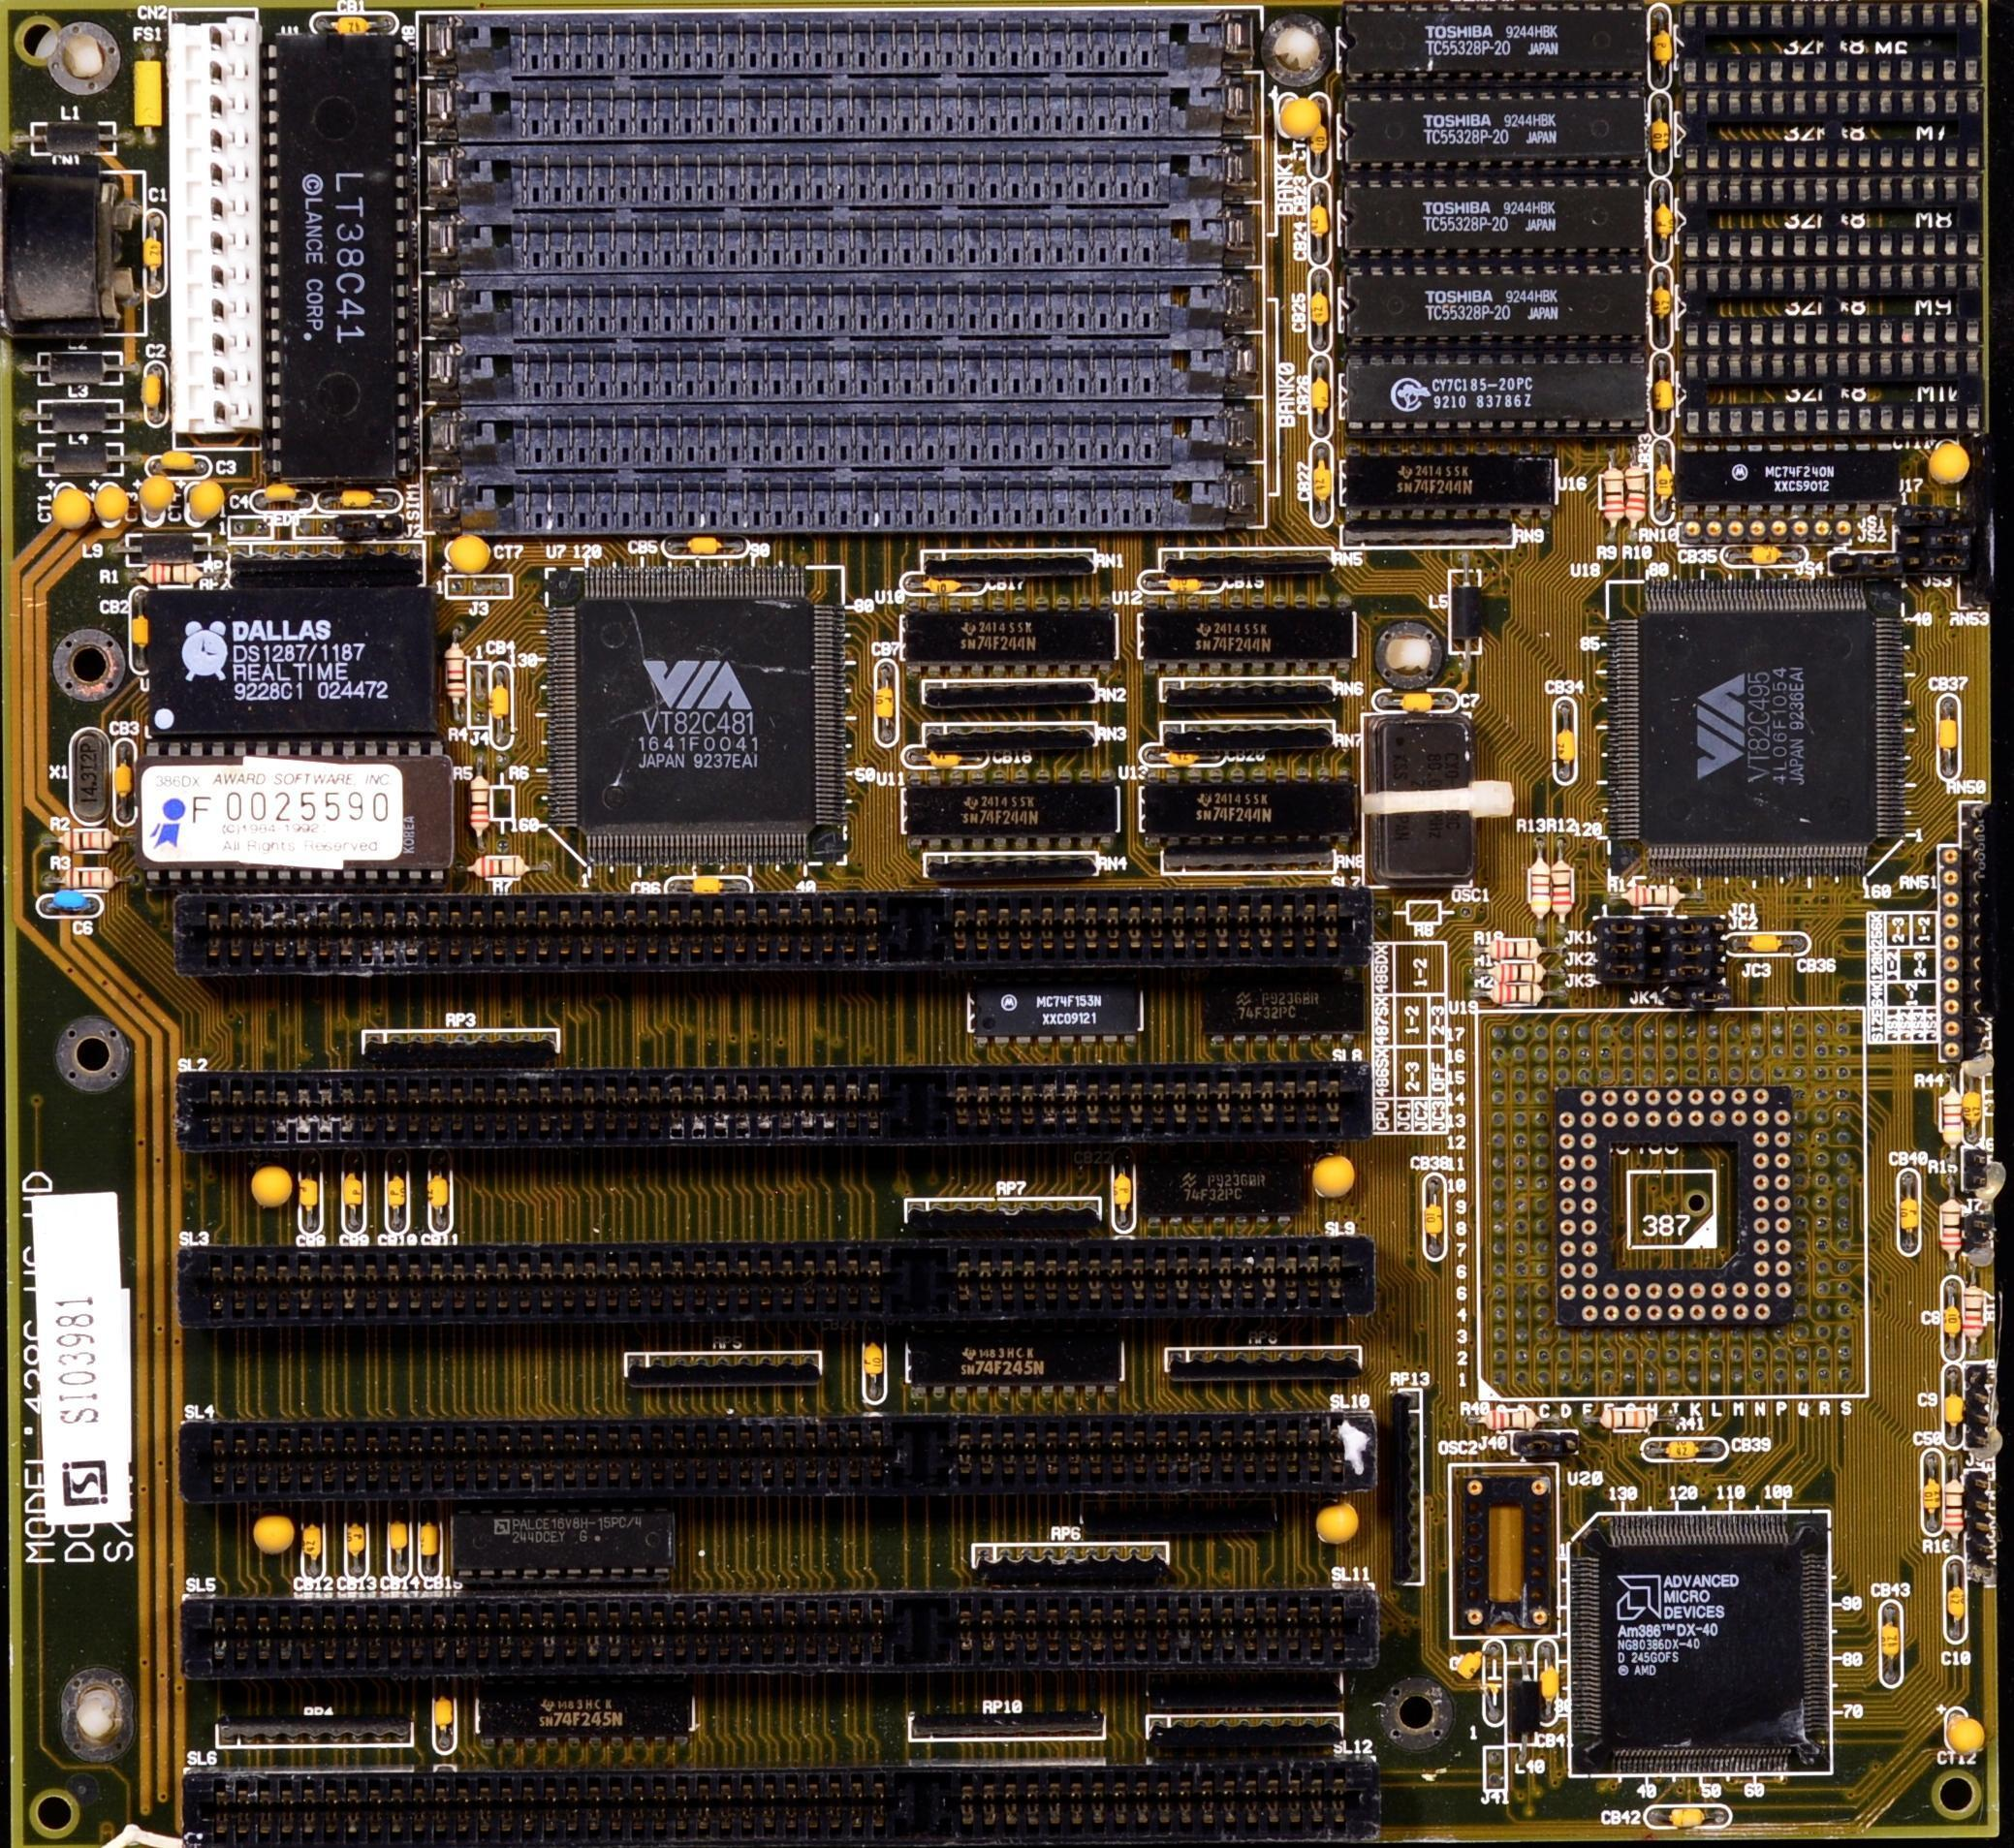Capacitor: (868, 660, 903, 739), (1547, 710, 1588, 780), (1377, 684, 1450, 720), (484, 665, 519, 738), (1426, 1174, 1457, 1256), (327, 479, 389, 517), (338, 1515, 375, 1580), (1305, 360, 1344, 422), (666, 534, 750, 563), (423, 1167, 456, 1236), (1940, 1569, 1972, 1644), (380, 1515, 415, 1582), (1918, 1453, 1945, 1528), (409, 1515, 444, 1577), (850, 1340, 893, 1390), (1150, 566, 1214, 600), (1309, 182, 1335, 260), (382, 1169, 411, 1241), (1644, 1805, 1719, 1832), (46, 885, 94, 926), (1109, 1157, 1137, 1228), (1896, 1169, 1923, 1243), (335, 1166, 365, 1231), (1942, 1375, 1969, 1443), (1877, 1603, 1905, 1671), (259, 479, 306, 518), (1645, 100, 1676, 164), (1301, 454, 1336, 505), (1962, 1075, 1989, 1138), (298, 1519, 330, 1577), (1650, 1438, 1723, 1461), (295, 1162, 323, 1222), (1154, 740, 1212, 768), (680, 870, 731, 901), (1739, 929, 1789, 960), (427, 1689, 456, 1744), (1935, 705, 1961, 764), (1530, 1651, 1557, 1709), (1307, 110, 1331, 172), (1939, 1287, 1962, 1345), (1652, 195, 1675, 247), (161, 441, 211, 464), (112, 759, 137, 808), (142, 362, 166, 416), (1652, 25, 1674, 77), (1649, 280, 1674, 328), (1652, 371, 1675, 418), (125, 611, 152, 648), (1306, 289, 1331, 327)
Connector: (181, 1419, 914, 1498), (183, 1768, 918, 1845), (177, 1597, 928, 1669), (421, 271, 1265, 334), (183, 1252, 919, 1320), (189, 1070, 905, 1140), (179, 897, 919, 965), (421, 471, 1256, 530), (421, 407, 1266, 463), (425, 145, 1264, 202), (421, 79, 1258, 136), (419, 341, 1254, 397), (418, 15, 1253, 70), (414, 215, 1259, 268), (931, 1591, 1380, 1673), (929, 1415, 1369, 1496), (172, 35, 259, 438), (924, 1246, 1378, 1320), (924, 893, 1365, 965), (926, 1768, 1369, 1835), (920, 1070, 1363, 1136), (0, 153, 141, 337), (1682, 174, 1984, 210), (1684, 317, 1988, 352), (1682, 1, 1981, 37), (1684, 229, 1993, 262), (1685, 87, 1978, 122), (1682, 52, 1985, 85), (1683, 266, 1983, 298), (1684, 410, 1988, 438), (1682, 142, 1985, 169), (1684, 356, 1985, 382), (423, 1167, 453, 1232)
IC: (1601, 579, 1906, 872), (550, 566, 848, 859), (1569, 1511, 1833, 1778), (270, 37, 410, 479), (146, 741, 456, 886), (145, 601, 444, 738), (1337, 4, 1653, 83), (1340, 178, 1657, 258), (1335, 267, 1640, 349), (1335, 95, 1650, 163), (1139, 775, 1357, 857), (908, 1324, 1129, 1405), (1346, 372, 1650, 428), (904, 775, 1127, 851), (897, 605, 1123, 676), (1670, 448, 1905, 516), (1137, 609, 1359, 680), (1343, 450, 1559, 520), (451, 1506, 662, 1580), (476, 1680, 697, 1744), (1133, 1155, 1311, 1231), (1199, 977, 1369, 1045), (970, 975, 1145, 1037)
Resistor: (1931, 1193, 1971, 1266), (1595, 459, 1632, 544), (1485, 978, 1559, 1018), (440, 638, 476, 719), (1472, 1398, 1547, 1436), (135, 558, 206, 594), (1477, 926, 1545, 965), (466, 768, 498, 850), (137, 221, 173, 290), (466, 847, 528, 885), (1957, 1285, 1990, 1354), (1935, 1081, 1966, 1155), (62, 825, 125, 858), (62, 857, 119, 893), (1627, 459, 1653, 541), (1595, 1401, 1660, 1431), (1482, 960, 1553, 987), (1940, 1472, 1967, 1541), (1627, 883, 1685, 913), (1527, 857, 1553, 925), (1553, 857, 1578, 923)
